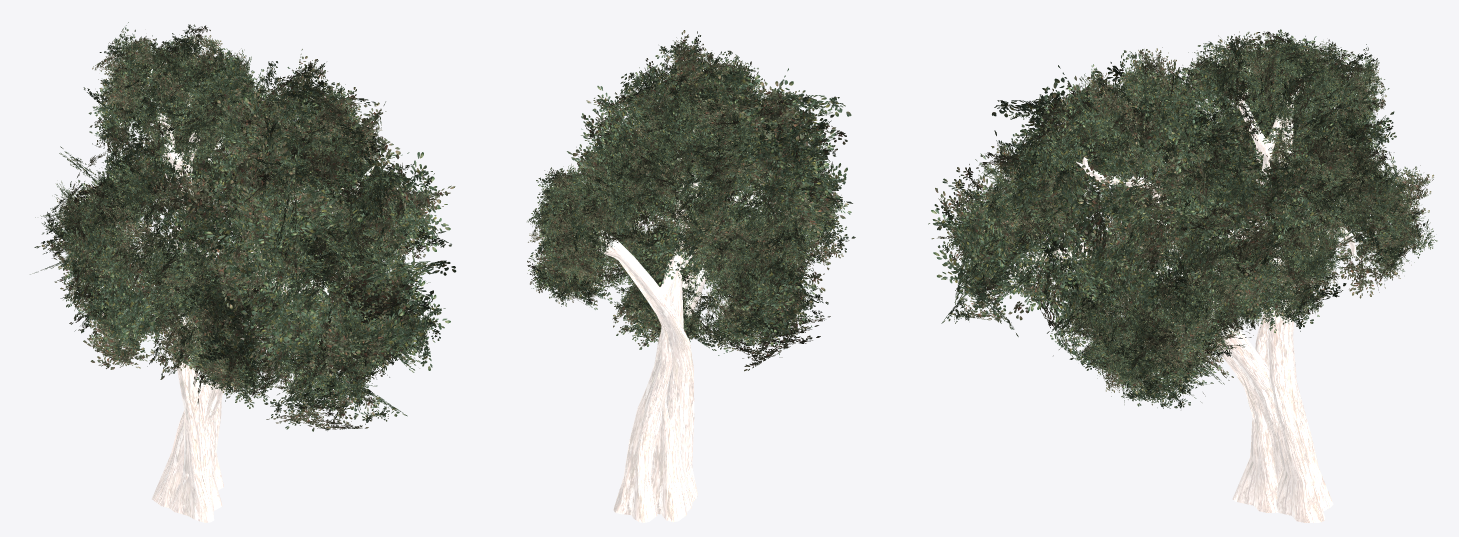
The model's file is SM_Savanna_Tree_05.fbx.
3 renders of one model, left to right at view 1: azimuth 30°, elevation 25°; view 2: azimuth 150°, elevation 25°; view 3: azimuth 270°, elevation 25°, orthographic. The views are drawn at different scales.
Parts seen in each view (by area): view 1: SM_Savanna_Tree_05_LOD0; view 2: SM_Savanna_Tree_05_LOD0; view 3: SM_Savanna_Tree_05_LOD0.
Part boxes in pixels (x1,y1,x2,y2): SM_Savanna_Tree_05_LOD0: (30,22,456,522); SM_Savanna_Tree_05_LOD0: (527,30,855,522); SM_Savanna_Tree_05_LOD0: (928,29,1437,522).
Bounding box in the file's own units: 798 × 1034 × 1040.
3 materials, 3 textured.
